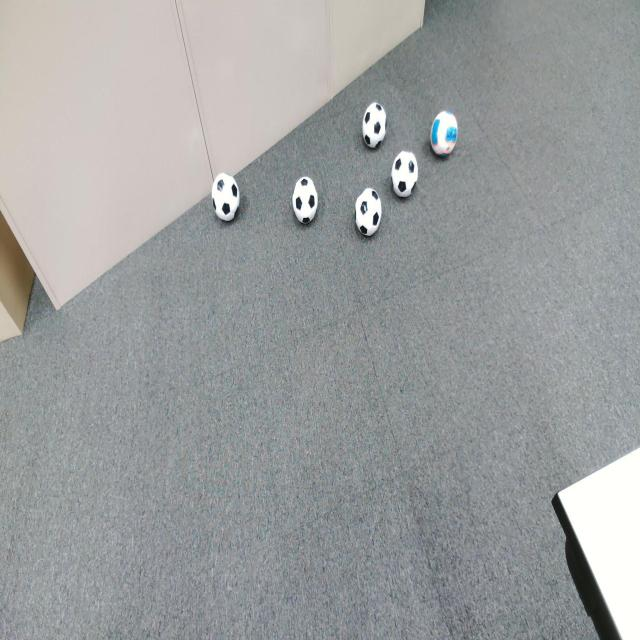Soccer Ball: (432, 107, 457, 159), (392, 150, 418, 195), (212, 175, 239, 217), (293, 176, 317, 222), (363, 102, 386, 149), (358, 190, 379, 233)
